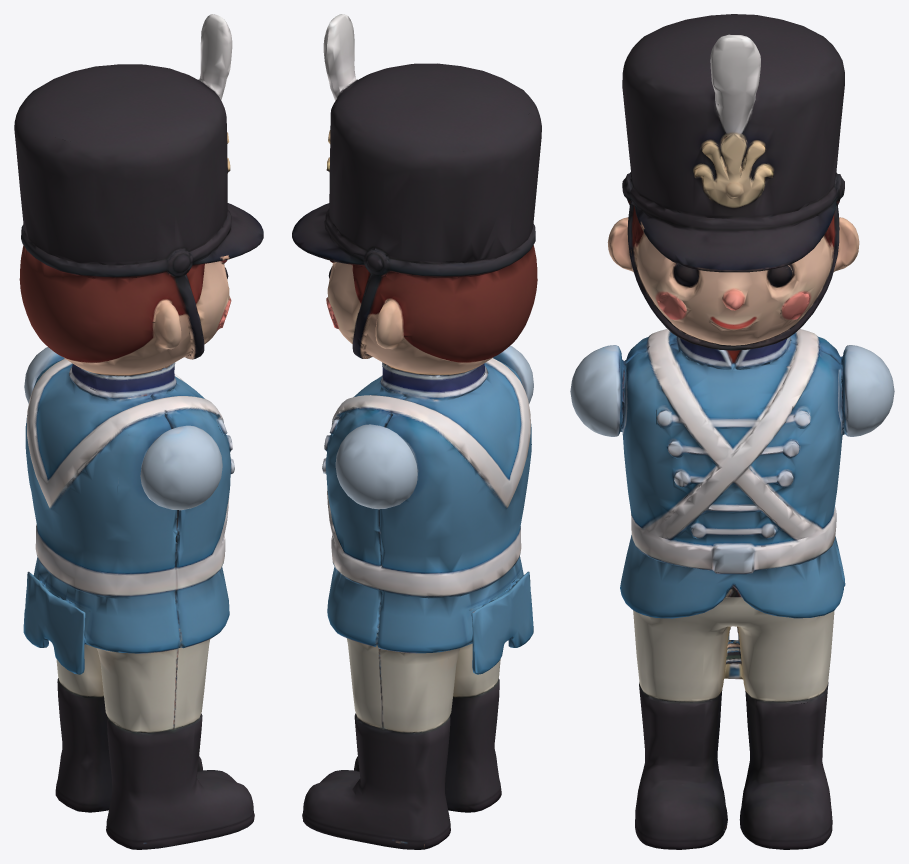
The picture shows the model from 3 angles, left to right: view 1: azimuth 30°, elevation 25°; view 2: azimuth 150°, elevation 25°; view 3: azimuth 270°, elevation 25°; orthographic projection. The views are drawn at different scales.
Visible parts, largest first — view 1: repaired; view 2: repaired; view 3: repaired.
Part boxes in pixels (x1,y1,x2,y2): repaired: (14,14,263,849); repaired: (292,14,541,849); repaired: (570,14,894,849).
Size of the model in its own units: 0.3014 by 0.9993 by 0.3598.
Materials: 1 (1 with a texture image).
